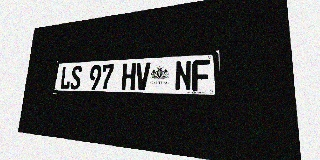7: (100, 64, 114, 90)
9: (88, 65, 102, 90)
F: (192, 59, 210, 91)
H: (121, 63, 136, 90)
L: (60, 66, 72, 89)
N: (175, 60, 192, 91)
S: (70, 66, 82, 89)
V: (135, 62, 150, 90)
